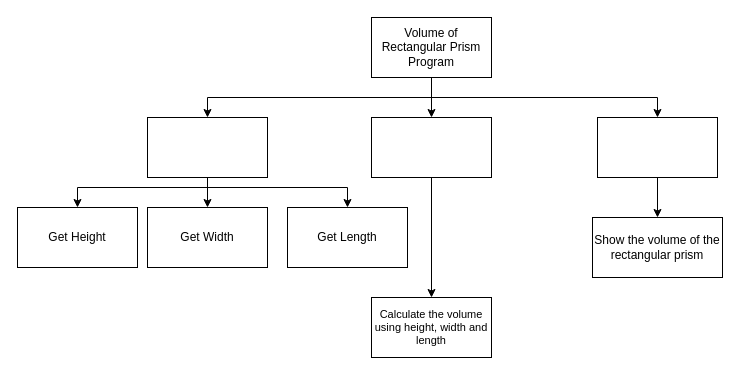
This 740x375 diagram has some shape labels left out. Here are the shapes that lost their labels. From the top down, the centre of each, then its label:
At point 207,147: "Input".
At point 431,147: "Process".
At point 657,147: "Output".
